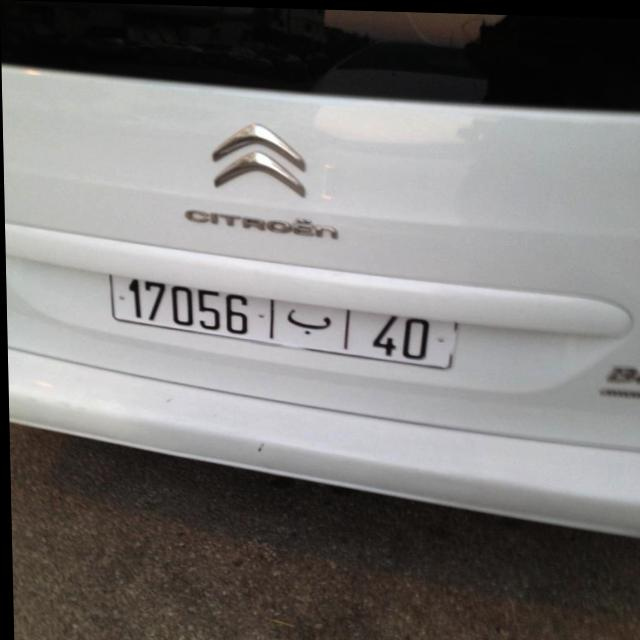License-Plate: (110, 275, 454, 365)
